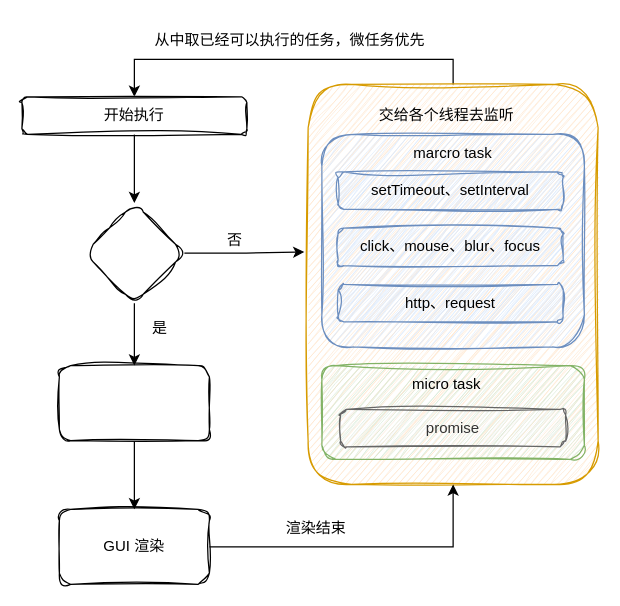
The diagram is 620 pixels wide and 606 high, and some of its shapes have lost their labels. The centre of each missing label's shape, as x and y in pixels:
"执行同步代码" goes at (133,402).
"是否为同步代码" goes at (133,252).
